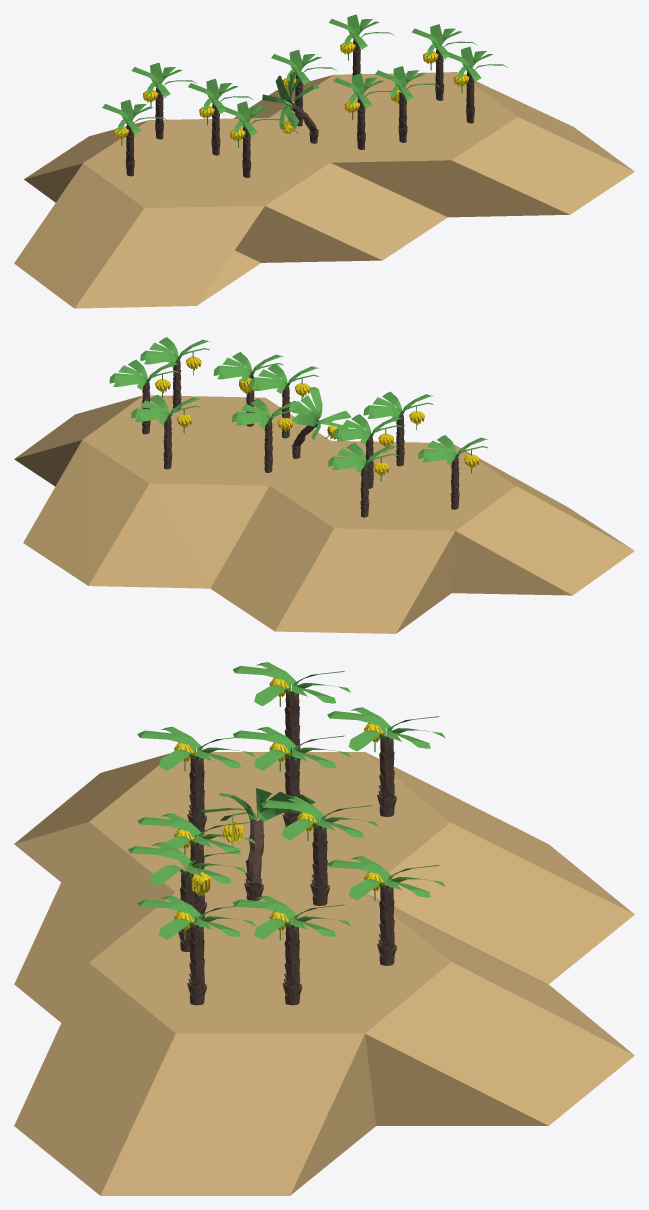
Rendered from insel5.fbx.
The picture shows the model from 3 angles, top to bottom: view 1: azimuth 30°, elevation 25°; view 2: azimuth 150°, elevation 25°; view 3: azimuth 270°, elevation 25°; orthographic projection. The views are drawn at different scales.
Parts seen in each view (by area): view 1: Landschaft, Blätter_20, Blätter_8, Blätter_4, Blätter_10, Blätter_14, Blätter_24, Blätter_16, Blätter_22, Blätter, Blätter_18, Blätter_12; view 2: Landschaft, Blätter_20, Blätter_14, Blätter_24, Blätter_4, Blätter_8, Blätter_16, Blätter_22, Blätter_10, Blätter_18, Blätter_12, Blätter (+1 smaller); view 3: Landschaft, Blätter_8, Blätter_24, Blätter_4, Blätter_14, Blätter_16, Blätter_10, Blätter_18, Blätter, Blätter_12, Blätter_22, Blätter_20 (+8 smaller).
Boxes of the visible parts, box(x1,y1,x2,y2) form: Landschaft: box(14, 72, 634, 308); Blätter_20: box(262, 71, 318, 129); Blätter_8: box(329, 14, 394, 50); Blätter_4: box(131, 62, 196, 98); Blätter_10: box(188, 78, 253, 114); Blätter_14: box(102, 99, 167, 135); Blätter_24: box(375, 66, 439, 101); Blätter_16: box(411, 24, 477, 59); Blätter_22: box(333, 73, 398, 108); Blätter: box(271, 49, 336, 85); Blätter_18: box(445, 46, 507, 82); Blätter_12: box(221, 101, 284, 136); Landschaft: box(14, 395, 634, 633); Blätter_20: box(289, 387, 350, 440); Blätter_14: box(418, 435, 487, 465); Blätter_24: box(213, 352, 283, 382); Blätter_4: box(328, 443, 398, 472); Blätter_8: box(131, 395, 200, 424); Blätter_16: box(109, 359, 178, 389); Blätter_22: box(249, 364, 318, 393); Blätter_10: box(333, 414, 402, 444); Blätter_18: box(140, 337, 210, 367); Blätter_12: box(363, 391, 433, 421); Blätter: box(232, 398, 301, 428); Landschaft: box(14, 752, 634, 1195); Blätter_8: box(327, 856, 445, 899); Blätter_24: box(128, 842, 246, 886); Blätter_4: box(327, 707, 445, 751); Blätter_14: box(233, 662, 350, 706); Blätter_16: box(233, 895, 350, 939); Blätter_10: box(233, 727, 350, 770); Blätter_18: box(137, 895, 255, 939); Blätter: box(260, 796, 378, 840); Blätter_12: box(137, 726, 255, 770); Blätter_22: box(137, 813, 255, 854); Blätter_20: box(194, 788, 315, 822).
Size of the model in its own units: 13347 by 2854 by 8282.
4 materials, 3 textured.
